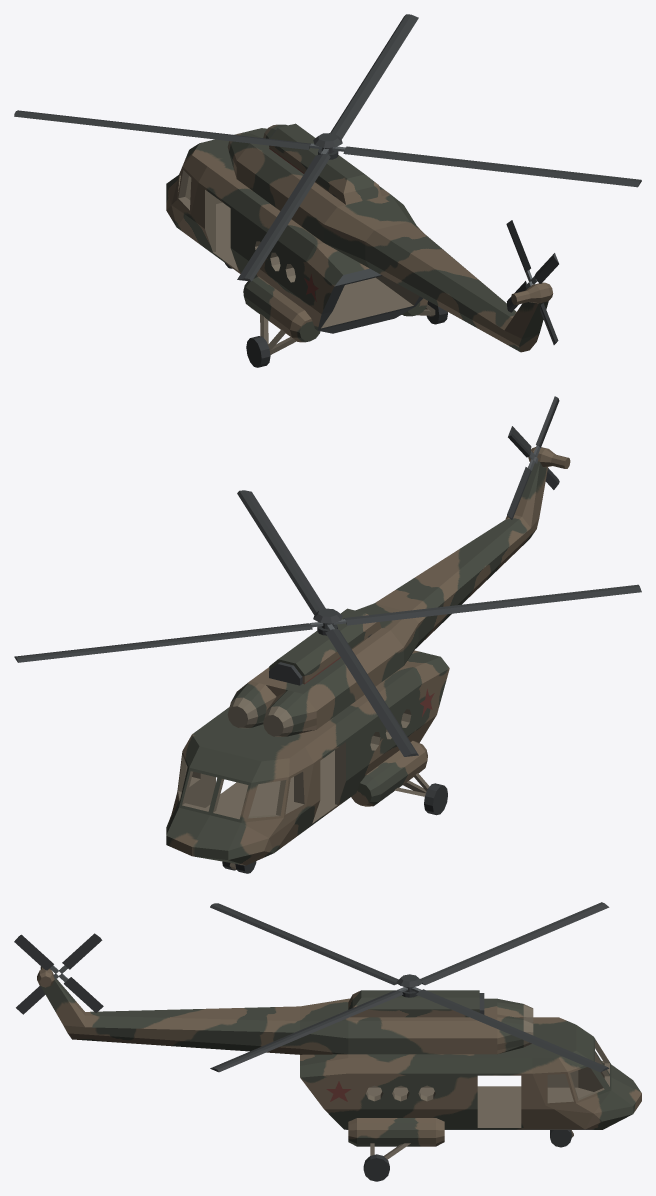
3 renders of one model, top to bottom at view 1: azimuth 30°, elevation 25°; view 2: azimuth 150°, elevation 25°; view 3: azimuth 270°, elevation 25°, orthographic. The views are drawn at different scales.
Parts seen in each view (by area): view 1: Mi-8_0, Mi-8_rotor_main_0, Mi-8_rotor_secondary_0; view 2: Mi-8_0, Mi-8_rotor_main_0, Mi-8_rotor_secondary_0; view 3: Mi-8_0, Mi-8_rotor_main_0, Mi-8_rotor_secondary_0.
Boxes of the visible parts, bbox=[...] form: Mi-8_0: bbox=[166, 123, 553, 367]; Mi-8_rotor_main_0: bbox=[14, 14, 641, 281]; Mi-8_rotor_secondary_0: bbox=[506, 220, 558, 344]; Mi-8_0: bbox=[166, 447, 570, 873]; Mi-8_rotor_main_0: bbox=[14, 490, 641, 756]; Mi-8_rotor_secondary_0: bbox=[507, 396, 559, 519]; Mi-8_0: bbox=[37, 966, 641, 1181]; Mi-8_rotor_main_0: bbox=[210, 902, 609, 1072]; Mi-8_rotor_secondary_0: bbox=[14, 933, 103, 1014].
Size of the model in its own units: 11.4 by 6.59 by 17.91.
2 materials, 2 textured.
